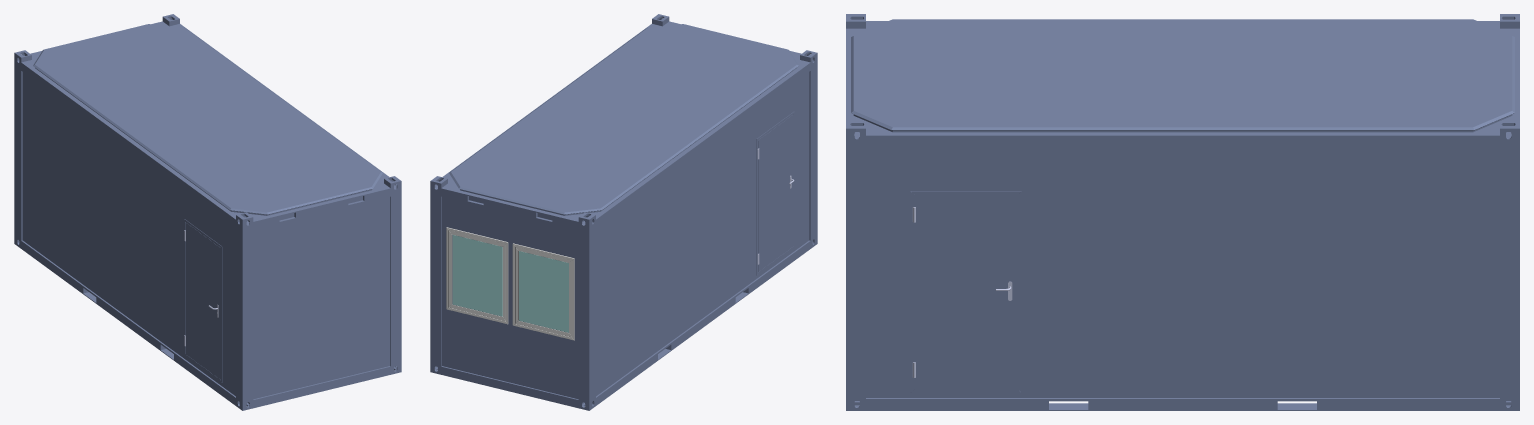
The model's file is Büro längsseitig HC 2800 BC 2430.obj.
3 views of the same model, side by side, from view 1: azimuth 30°, elevation 25°; view 2: azimuth 150°, elevation 25°; view 3: azimuth 270°, elevation 25° (orthographic). The views are drawn at different scales.
Visible parts, largest first — view 1: |Test_buerolängs~0|Root|Test-Büro2~0-1|color, |Test_buerolängs~0|Root|Cont-Tür~0-3|color-2; view 2: |Test_buerolängs~0|Root|Test-Büro2~0-1|color, |Test_buerolängs~0|Root|Cont-Tür~0-3|color-2, |Test_buerolängs~0|Root|Cont-Fenster~0-1|color-4, |Test_buerolängs~0|Root|Cont-Fenster~0-3|color-4, |Test_buerolängs~0|Root|Cont-Fenster~0-1|color-5, |Test_buerolängs~0|Root|Cont-Fenster~0-3|color-5; view 3: |Test_buerolängs~0|Root|Test-Büro2~0-1|color, |Test_buerolängs~0|Root|Cont-Tür~0-2|color-2.
Boxes of the visible parts, x1=… form: |Test_buerolängs~0|Root|Test-Büro2~0-1|color: x1=14, y1=14, x2=401, y2=410; |Test_buerolängs~0|Root|Cont-Tür~0-3|color-2: x1=184, y1=219, x2=222, y2=382; |Test_buerolängs~0|Root|Test-Büro2~0-1|color: x1=430, y1=14, x2=817, y2=410; |Test_buerolängs~0|Root|Cont-Tür~0-3|color-2: x1=756, y1=111, x2=794, y2=275; |Test_buerolängs~0|Root|Cont-Fenster~0-1|color-4: x1=452, y1=235, x2=502, y2=316; |Test_buerolängs~0|Root|Cont-Fenster~0-3|color-4: x1=519, y1=251, x2=568, y2=332; |Test_buerolängs~0|Root|Cont-Fenster~0-1|color-5: x1=446, y1=227, x2=508, y2=324; |Test_buerolängs~0|Root|Cont-Fenster~0-3|color-5: x1=512, y1=243, x2=574, y2=340; |Test_buerolängs~0|Root|Test-Büro2~0-1|color: x1=846, y1=14, x2=1519, y2=410; |Test_buerolängs~0|Root|Cont-Tür~0-2|color-2: x1=910, y1=191, x2=1021, y2=392.
Size of the model in its own units: 2.54 by 2.8 by 6.05.
